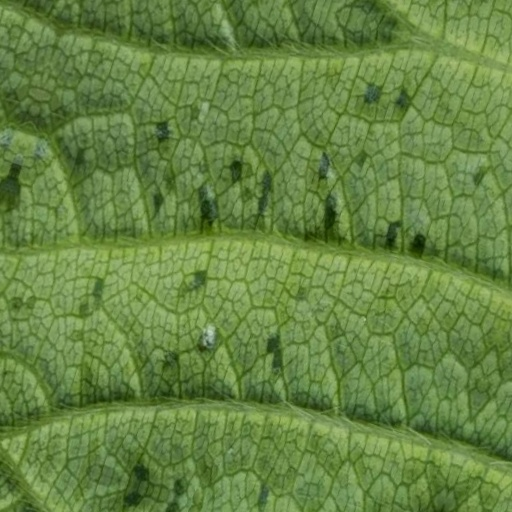Angular Leafspot: (50, 0, 511, 511)
